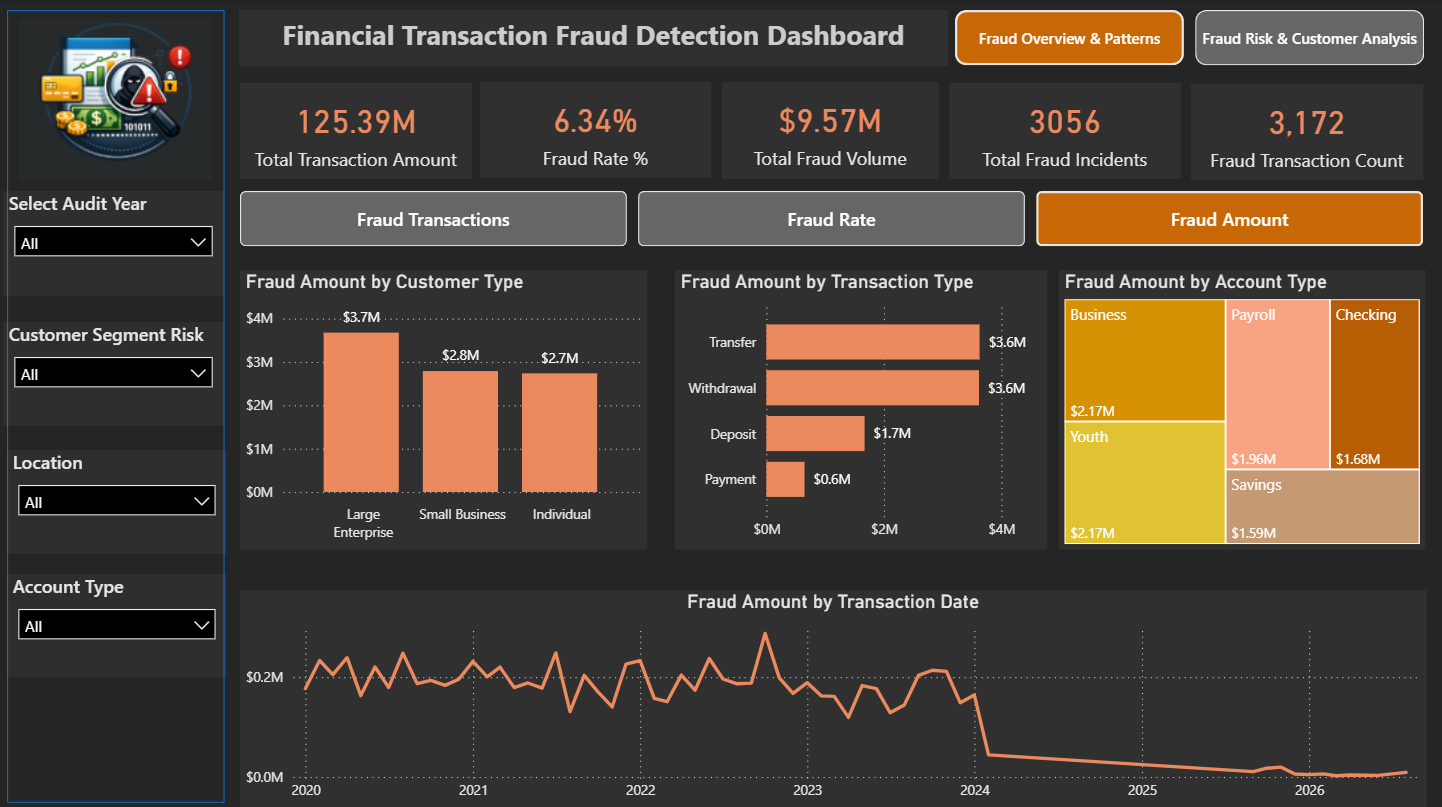

What the dashboard file says about the page in this screenshot:
{"tool":"powerbi","page":{"name":"Fraud Overview & Patterns","canvas":[1280,720],"ordinal":0},"visuals":[{"type":"shape","box":[6.6,9.4,192.9,703.1],"z":0},{"type":"card","fields":{"Values":["_All Measures.Total Fraud Volume"]},"box":[640,73.8,191.9,86.5],"z":1000},{"type":"card","title":"TOTAL FRAUD INCIDENTS","fields":{"Values":["_All Measures.Fraud Transaction Count"]},"box":[1056.1,75.2,205.5,85.3],"z":2000},{"type":"card","title":"FRAUD RATE","fields":{"Values":["_All Measures.Fraud Rate %"]},"box":[426,73.8,204.5,85.4],"z":3000},{"type":"textbox","box":[212,10.1,628.5,49.5],"z":4000},{"type":"card","title":"TOTAL FRAUD INCIDENTS","fields":{"Values":["_All Measures.Total Fraud Incidents"]},"box":[841.4,74.3,205.5,85.3],"z":5000},{"type":"card","title":"TOTAL FRAUD INCIDENTS","fields":{"Values":["_All Measures.Total Transaction Amount"]},"box":[212.9,74.3,205.5,85.3],"z":6000},{"type":"slicer","title":"Customer Segment Risk","fields":{"Values":["public customer_types.type_name"]},"box":[2.8,286.1,195.8,92.2],"z":7000},{"type":"slicer","title":"Select Audit Year","fields":{"Values":["Dim Calendar.Year"]},"box":[2.8,170.4,195.8,93.2],"z":8000},{"type":"bookmarkNavigator","box":[212.9,170.7,1051.5,49.5],"z":13000},{"type":"pageNavigator","box":[846.9,10.1,417.5,49.5],"z":14000},{"type":"slicer","title":"Account Type","fields":{"Values":["public account_types.type_name"]},"box":[6.4,510.2,195.4,91.8],"z":15000},{"type":"slicer","title":"Location","fields":{"Values":["public addresses.city"]},"box":[6.4,400.1,195.4,91.8],"z":16000},{"type":"clusteredColumnChart","title":"Fraud Transaction by Customer Type","fields":{"Category":["public customer_types.type_name"],"Y":["_All Measures.Fraud Transaction Count"]},"box":[211.9,240.4,360.6,247.8],"z":18000},{"type":"clusteredBarChart","title":"Fraud Transaction by Transaction Type","fields":{"Category":["public transaction_types.type_name"],"Y":["_All Measures.Fraud Transaction Count"]},"box":[598.5,239.1,329.6,247.8],"z":19000},{"type":"treemap","title":"Fraud Transaction by Account Type","fields":{"Group":["public account_types.type_name"],"Values":["_All Measures.Fraud Transaction Count"]},"box":[938,240.4,325.9,247.8],"z":22000},{"type":"lineChart","title":"Fraud Transaction by Transaction Date","fields":{"Category":["Dim Calendar.Date.Variation.Date Hierarchy.Year","Dim Calendar.Date.Variation.Date Hierarchy.Quarter","Dim Calendar.Date.Variation.Date Hierarchy.Month"],"Y":["_All Measures.Fraud Transaction Count"]},"box":[214.4,524.1,1050.8,195.8],"z":23000},{"type":"image","box":[11.5,16.8,181.8,143.6],"z":25000}]}

Visuals, with their boxes in screenshot pixels (x1, y1, x2, y2), scaled from the page's 1280x720 canvas onto the 1442x807 screenshot:
shape: (x1=7, y1=11, x2=225, y2=799)
card - _All Measures.Total Fraud Volume: (x1=721, y1=83, x2=937, y2=180)
"TOTAL FRAUD INCIDENTS" card: (x1=1190, y1=84, x2=1421, y2=180)
"FRAUD RATE" card: (x1=480, y1=83, x2=710, y2=178)
textbox: (x1=239, y1=11, x2=947, y2=67)
"TOTAL FRAUD INCIDENTS" card: (x1=948, y1=83, x2=1179, y2=179)
"TOTAL FRAUD INCIDENTS" card: (x1=240, y1=83, x2=471, y2=179)
"Customer Segment Risk" slicer: (x1=3, y1=321, x2=224, y2=424)
"Select Audit Year" slicer: (x1=3, y1=191, x2=224, y2=295)
bookmarkNavigator: (x1=240, y1=191, x2=1424, y2=247)
pageNavigator: (x1=954, y1=11, x2=1424, y2=67)
"Account Type" slicer: (x1=7, y1=572, x2=227, y2=675)
"Location" slicer: (x1=7, y1=448, x2=227, y2=551)
"Fraud Transaction by Customer Type" clusteredColumnChart: (x1=239, y1=269, x2=645, y2=547)
"Fraud Transaction by Transaction Type" clusteredBarChart: (x1=674, y1=268, x2=1046, y2=546)
"Fraud Transaction by Account Type" treemap: (x1=1057, y1=269, x2=1424, y2=547)
"Fraud Transaction by Transaction Date" lineChart: (x1=242, y1=587, x2=1425, y2=806)
image: (x1=13, y1=19, x2=218, y2=180)
